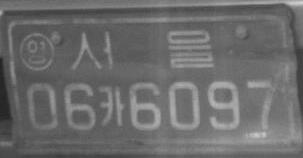0: (167, 81, 201, 131), (26, 81, 58, 131)
6: (63, 82, 96, 131), (129, 81, 161, 130)
7: (246, 79, 280, 130)
9: (206, 80, 241, 130)
서울_D: (70, 28, 214, 71)
영: (19, 31, 55, 72)
카: (98, 85, 125, 129)
